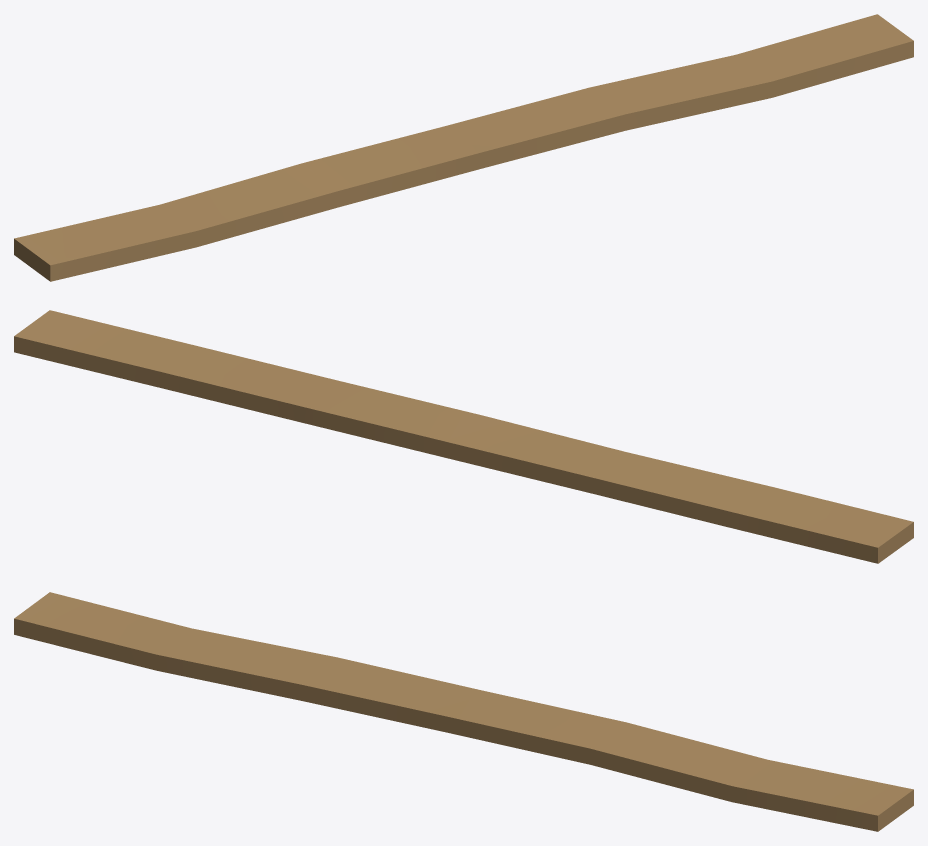
Rendered from plank_01_a.fbx.
3 views of the same model, one above another, from view 1: azimuth 30°, elevation 25°; view 2: azimuth 150°, elevation 25°; view 3: azimuth 330°, elevation 25° (orthographic).
Visible parts, largest first — view 1: Plank_01_a; view 2: Plank_01_a; view 3: Plank_01_a.
Boxes of the visible parts, x1,y1,x2,y2 form: Plank_01_a: [14, 14, 913, 281]; Plank_01_a: [14, 310, 913, 563]; Plank_01_a: [14, 592, 913, 831].
Bounding box in the file's own units: 47.35 × 4.14 × 1.27.
